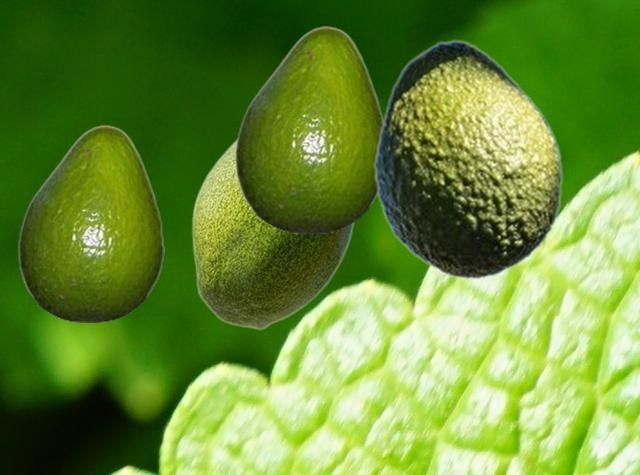avocado: (372, 39, 562, 279), (191, 139, 354, 329), (234, 25, 383, 232), (17, 124, 163, 321)
